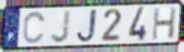2: (100, 8, 124, 43)
4: (127, 6, 148, 44)
C: (22, 11, 47, 45)
H: (151, 6, 178, 41)
J: (75, 8, 99, 44), (49, 9, 72, 45)
